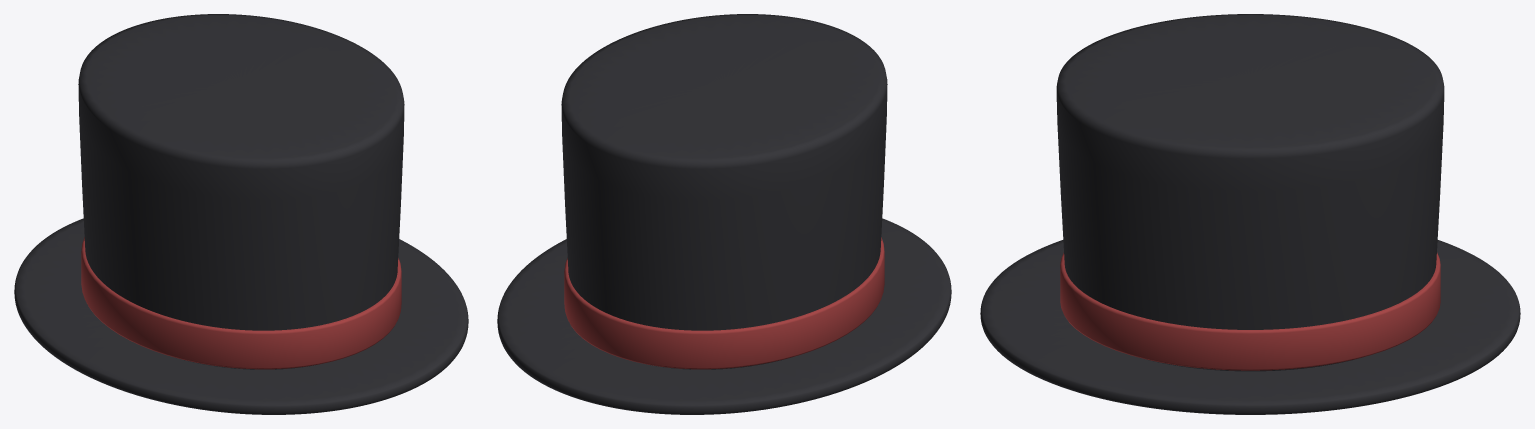
The model's file is hat_tophat.glb.
3 renders of one model, left to right at view 1: azimuth 30°, elevation 25°; view 2: azimuth 150°, elevation 25°; view 3: azimuth 270°, elevation 25°, orthographic. The views are drawn at different scales.
Parts seen in each view (by area): view 1: tophat; view 2: tophat; view 3: tophat.
Part boxes in pixels (x1,y1,x2,y2): tophat: [14, 14, 468, 414]; tophat: [497, 14, 951, 414]; tophat: [980, 14, 1520, 414].
Bounding box in the file's own units: 0.3633 × 0.21 × 0.4282.
